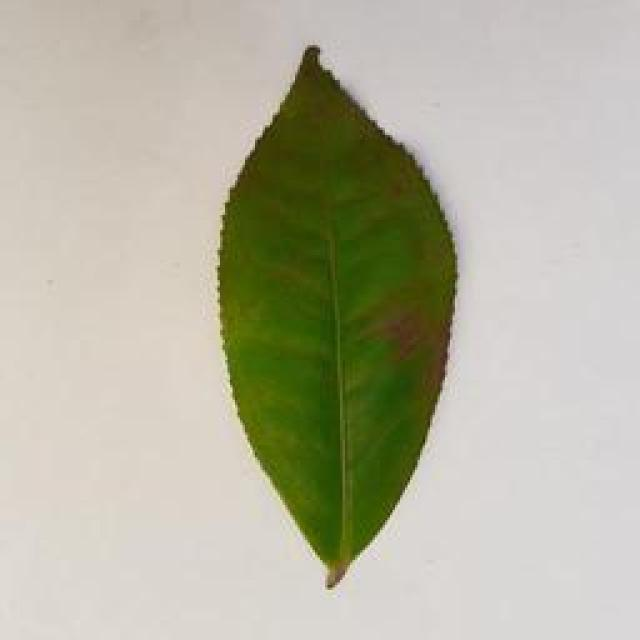Red Leaf Spot: (188, 42, 460, 595)
